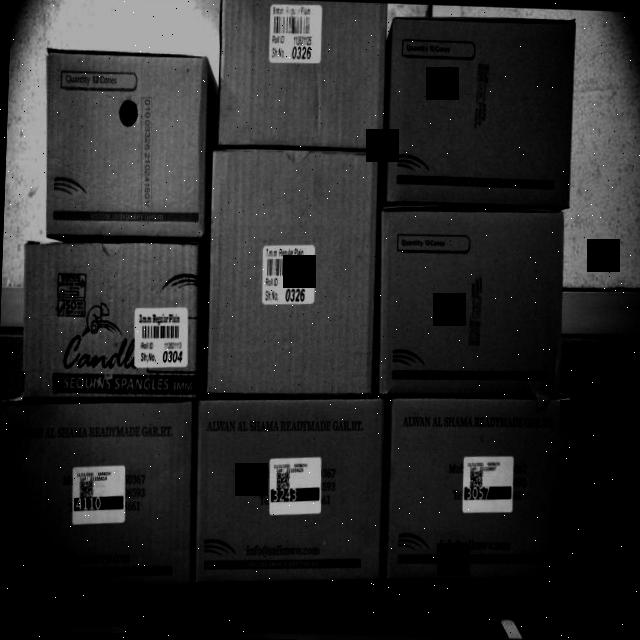box: (205, 145, 386, 402), (186, 396, 384, 592), (0, 405, 194, 599), (382, 394, 571, 590), (380, 200, 561, 402), (383, 13, 571, 207), (35, 38, 212, 244), (14, 231, 204, 406), (217, 0, 387, 149)
